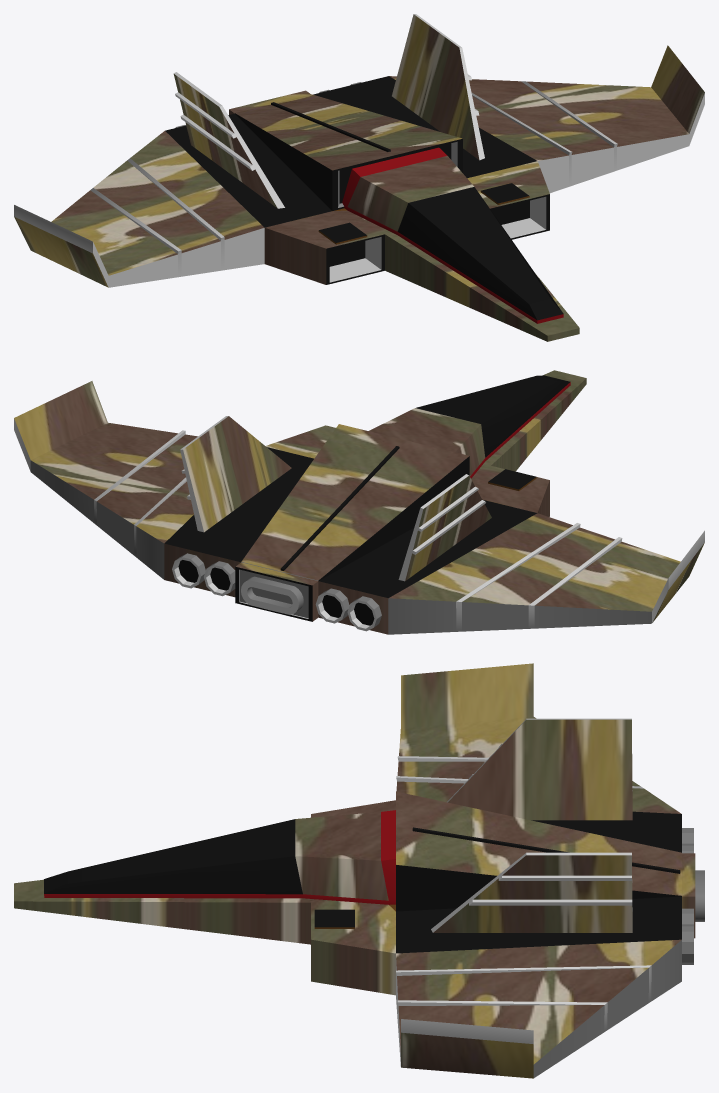
The model's file is ship.fbx.
3 renders of one model, top to bottom at view 1: azimuth 30°, elevation 25°; view 2: azimuth 150°, elevation 25°; view 3: azimuth 270°, elevation 25°, orthographic. The views are drawn at different scales.
Visible parts, largest first — view 1: SpaceShip; view 2: SpaceShip; view 3: SpaceShip.
Part boxes in pixels (<box>): SpaceShip: <box>14,14,704,341</box>; SpaceShip: <box>14,370,704,634</box>; SpaceShip: <box>14,663,704,1078</box>.
Bounding box in the file's own units: 11.46 × 1.9 × 9.12.
Materials: 6 (1 with a texture image).
